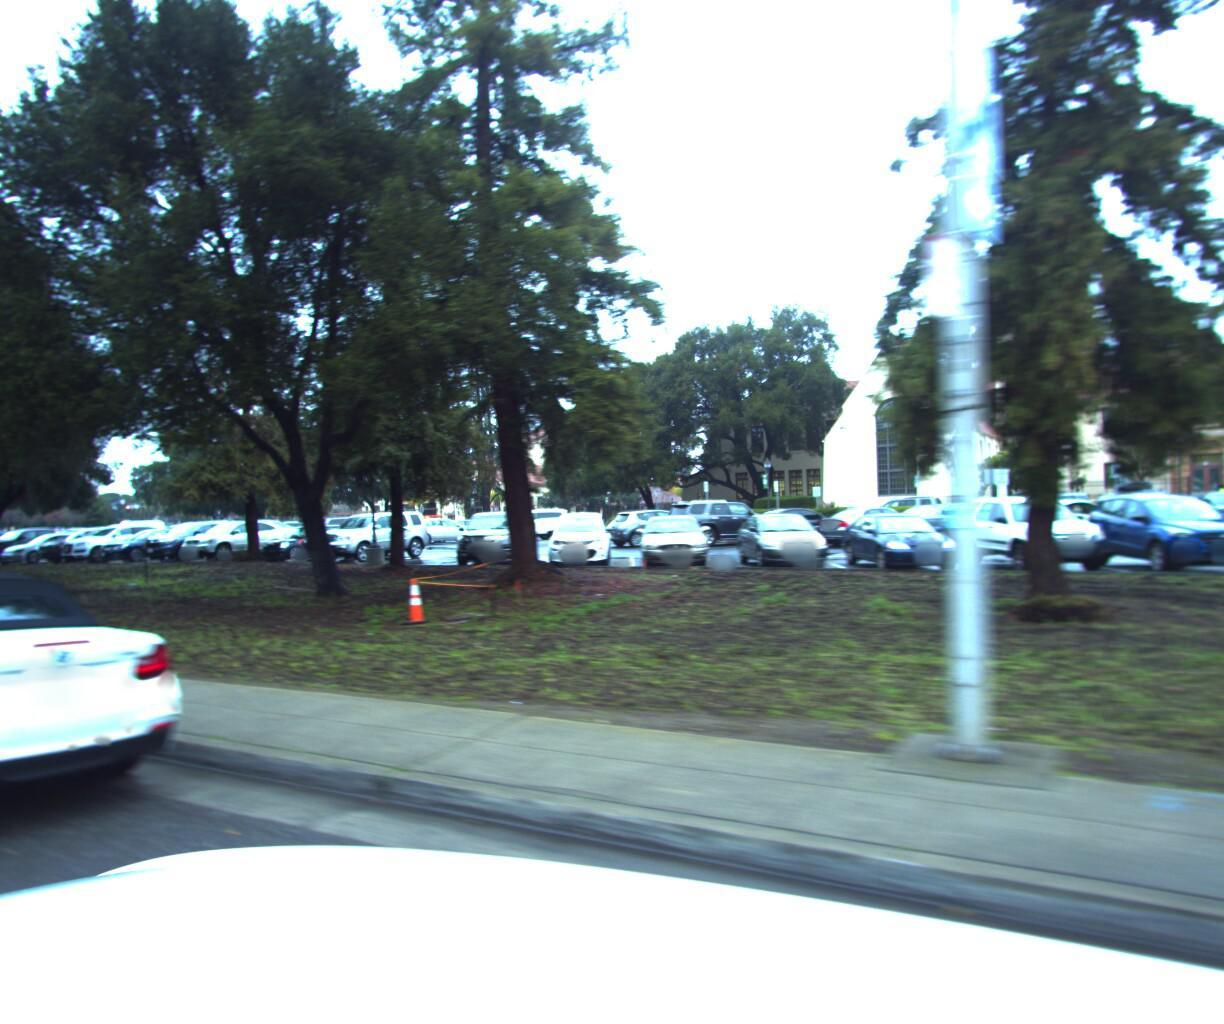car: (0, 556, 215, 910)
